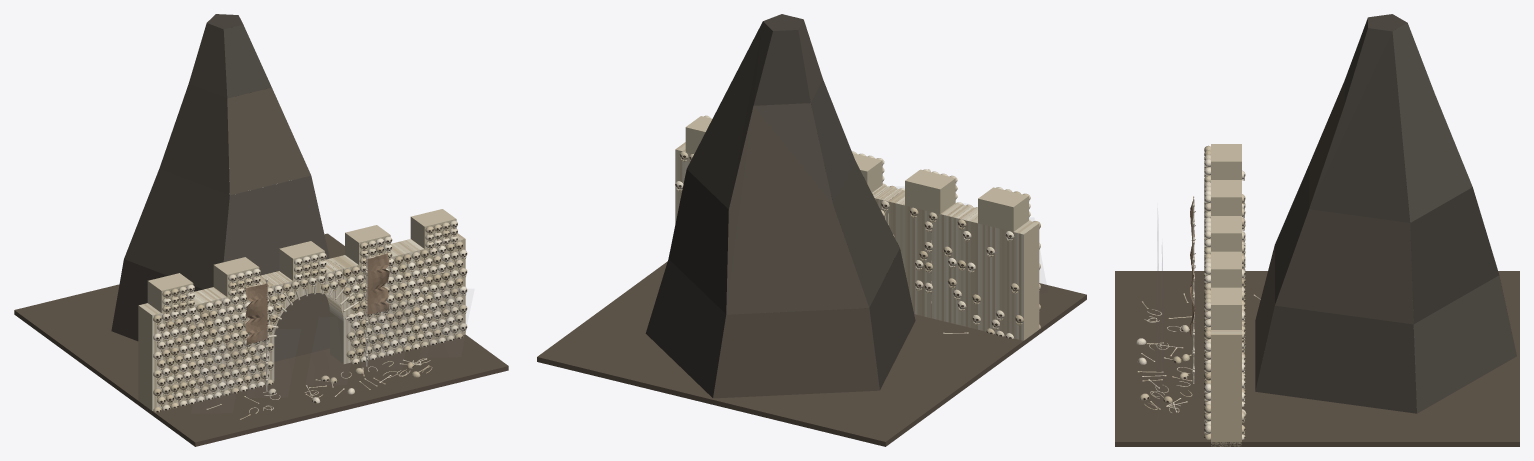
File: xy_shituoling.glb
The picture shows the model from 3 angles, left to right: view 1: azimuth 30°, elevation 25°; view 2: azimuth 150°, elevation 25°; view 3: azimuth 270°, elevation 25°; orthographic projection. The views are drawn at different scales.
Parts seen in each view (by area): view 1: xy_shituoling; view 2: xy_shituoling; view 3: xy_shituoling.
Boxes of the visible parts, x1,y1,x2,y2 form: xy_shituoling: (14, 14, 508, 446); xy_shituoling: (537, 14, 1086, 446); xy_shituoling: (1115, 14, 1519, 446).
Bounding box in the file's own units: 19 × 17.39 × 19.
